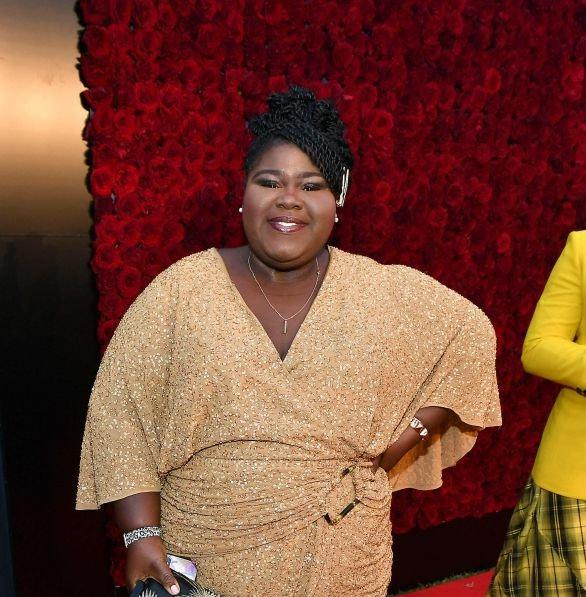Sober: (240, 138, 335, 255)
